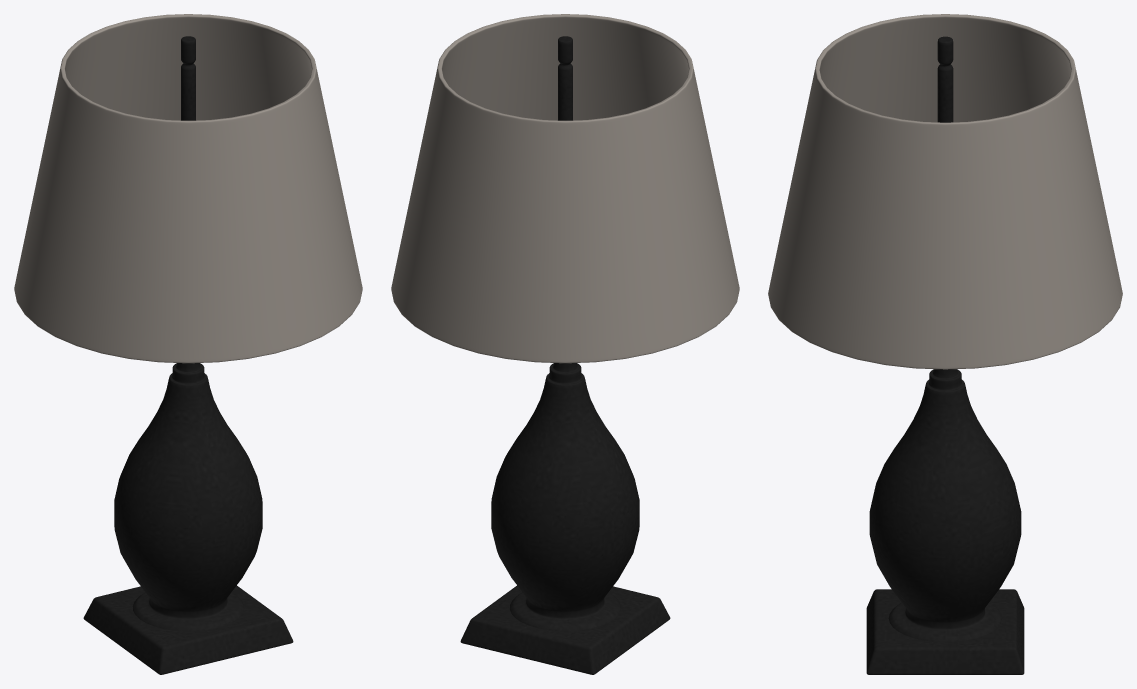
File: Lamp.glb
3 views of the same model, side by side, from view 1: azimuth 30°, elevation 25°; view 2: azimuth 150°, elevation 25°; view 3: azimuth 270°, elevation 25° (orthographic).
Parts seen in each view (by area): view 1: mint0131; view 2: mint0131; view 3: mint0131.
Part boxes in pixels (x1,y1,x2,y2): mint0131: (14, 14, 362, 674); mint0131: (391, 14, 739, 674); mint0131: (768, 14, 1122, 674).
Bounding box in the file's own units: 0.2281 × 0.4277 × 0.2281.
2 materials, 1 textured.
